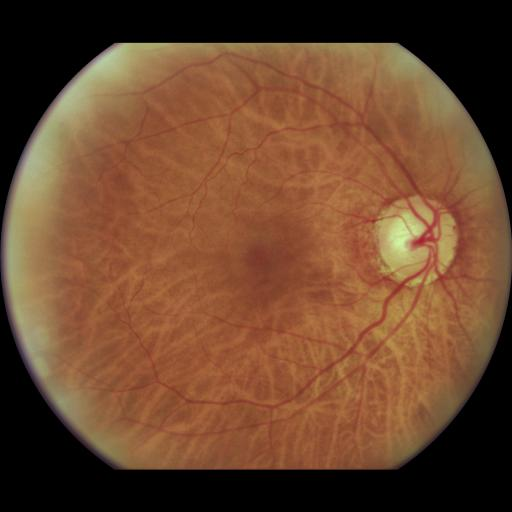Optic Cup: (389, 212, 426, 253)
Optic Disc: (377, 194, 458, 287)
